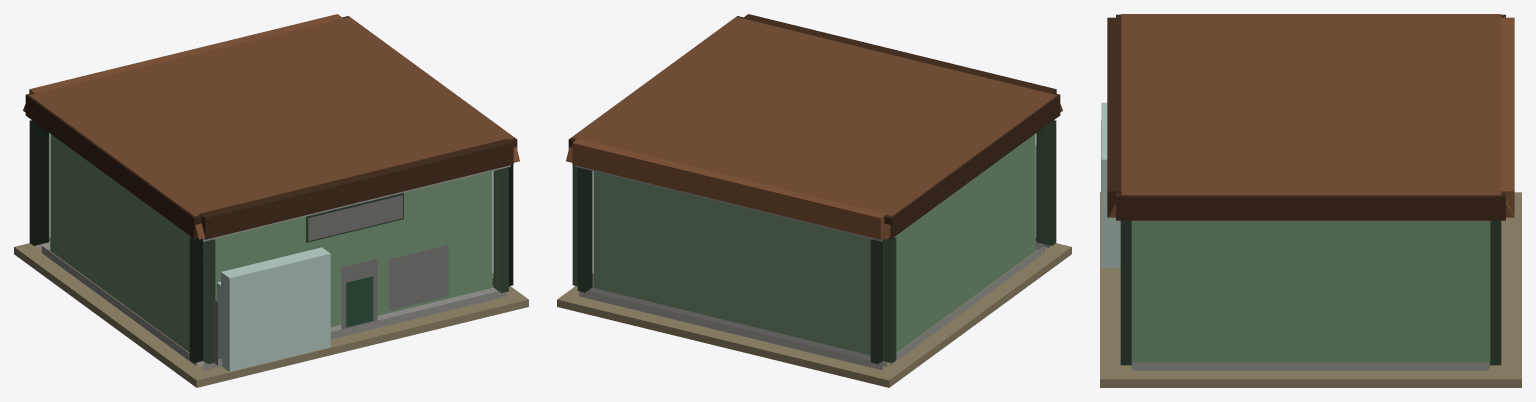
The model's file is CanScorpionSil.fbx.
3 renders of one model, left to right at view 1: azimuth 30°, elevation 25°; view 2: azimuth 150°, elevation 25°; view 3: azimuth 270°, elevation 25°, orthographic. The views are drawn at different scales.
Visible parts, largest first — view 1: GC_S_All; view 2: GC_S_All; view 3: GC_S_All.
Part boxes in pixels (x1,y1,x2,y2): GC_S_All: (14,14,528,387); GC_S_All: (557,14,1071,387); GC_S_All: (1100,14,1521,387).
Size of the model in its own units: 42.04 by 19.9 by 40.04.
